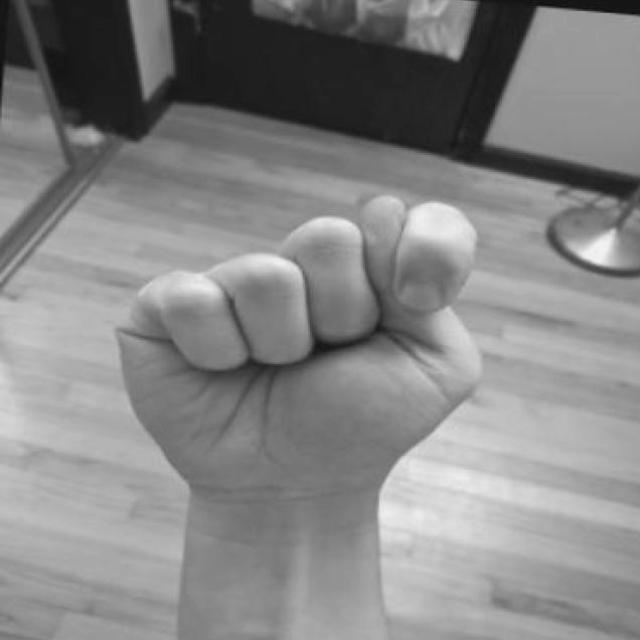T: (95, 191, 504, 509)
